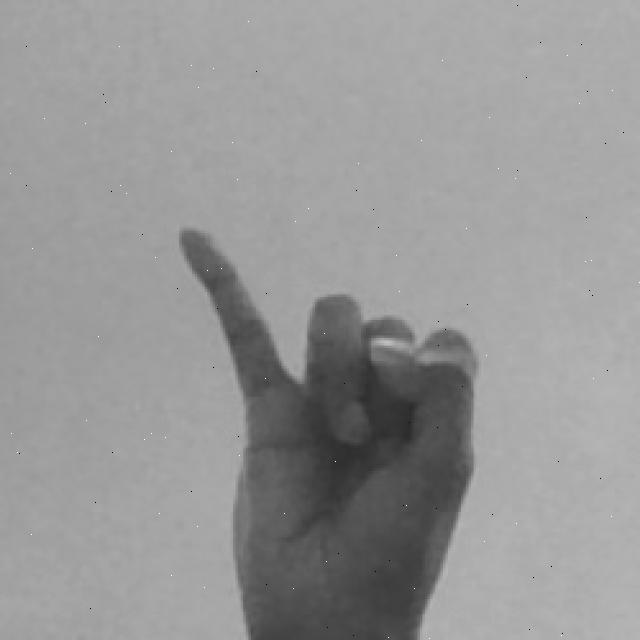I: (159, 215, 486, 640)
